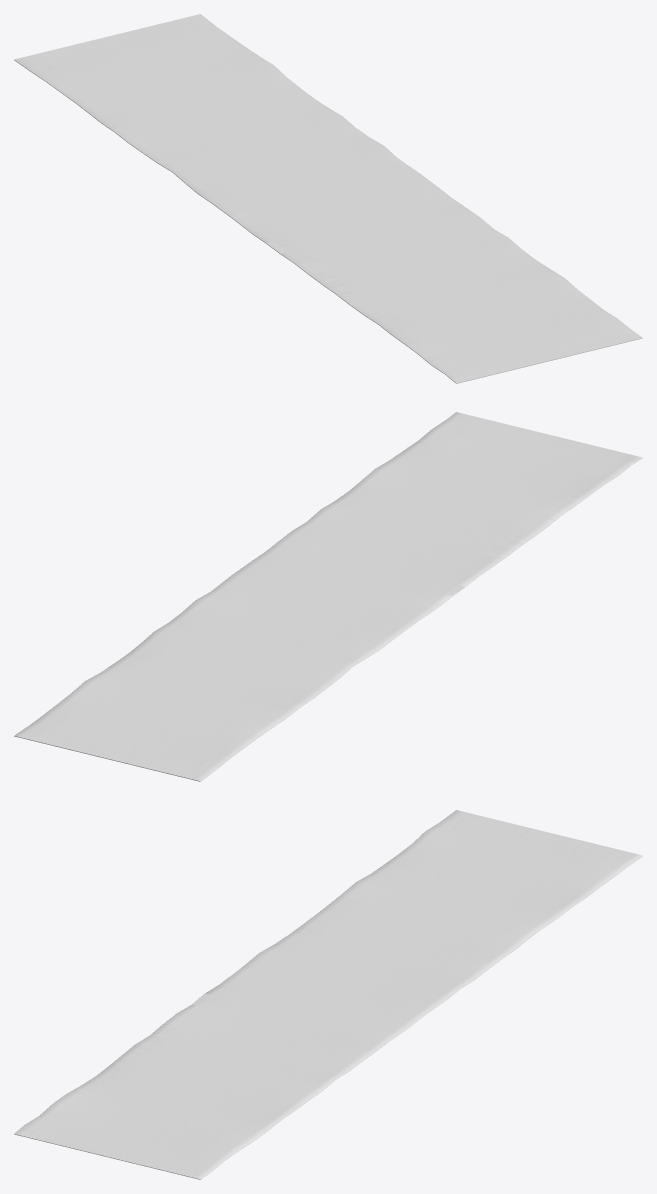
Rendered from DecorAisleRunnerFixedUV.fbx.
3 renders of one model, top to bottom at view 1: azimuth 30°, elevation 25°; view 2: azimuth 150°, elevation 25°; view 3: azimuth 330°, elevation 25°, orthographic.
Parts seen in each view (by area): view 1: DecorAisleRunner01_1; view 2: DecorAisleRunner01_1; view 3: DecorAisleRunner01_1.
Boxes of the visible parts, x1,y1,x2,y2 form: DecorAisleRunner01_1: [14, 14, 642, 383]; DecorAisleRunner01_1: [14, 412, 642, 781]; DecorAisleRunner01_1: [14, 810, 642, 1179].
Size of the model in its own units: 196 by 2.61 by 800.
